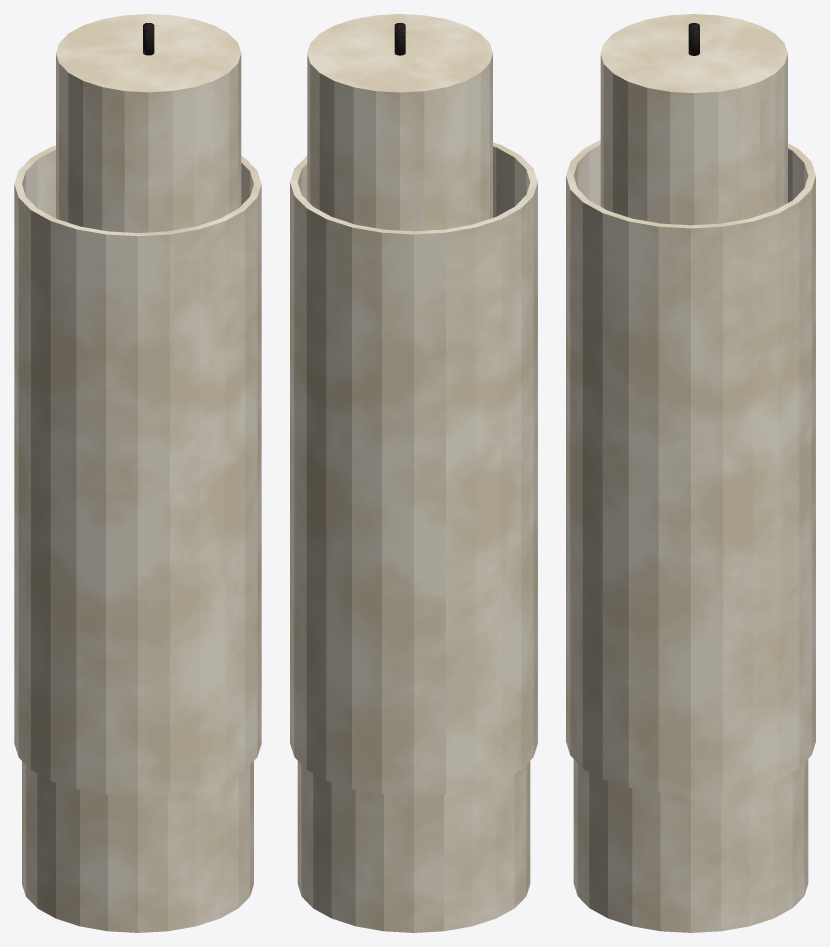
File: vela.obj
3 views of the same model, side by side, from view 1: azimuth 30°, elevation 25°; view 2: azimuth 150°, elevation 25°; view 3: azimuth 270°, elevation 25° (orthographic).
Visible parts, largest first — view 1: Cylinder.001; view 2: Cylinder.001; view 3: Cylinder.001.
Boxes of the visible parts, x1,y1,x2,y2 form: Cylinder.001: (14,14,261,932); Cylinder.001: (290,14,537,932); Cylinder.001: (566,14,815,932).
Size of the model in its own units: 0.08 by 0.3058 by 0.08.
2 materials, 2 textured.
